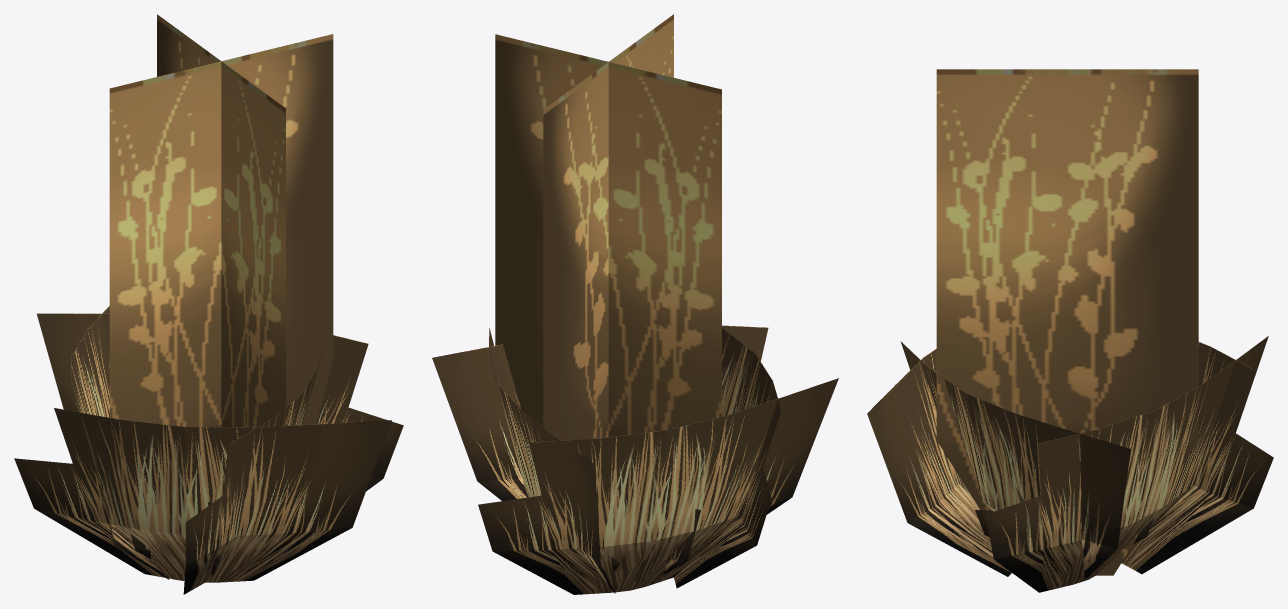
The model's file is MatoSeco.fbx.
3 renders of one model, left to right at view 1: azimuth 30°, elevation 25°; view 2: azimuth 150°, elevation 25°; view 3: azimuth 270°, elevation 25°, orthographic.
Visible parts, largest first — view 1: Plane.009; view 2: Plane.009; view 3: Plane.009.
Part boxes in pixels (x1,y1,x2,y2): Plane.009: (14, 14, 403, 594); Plane.009: (432, 14, 838, 594); Plane.009: (867, 69, 1273, 592).
Bounding box in the file's own units: 509 × 742 × 541.
1 material, 1 textured.
